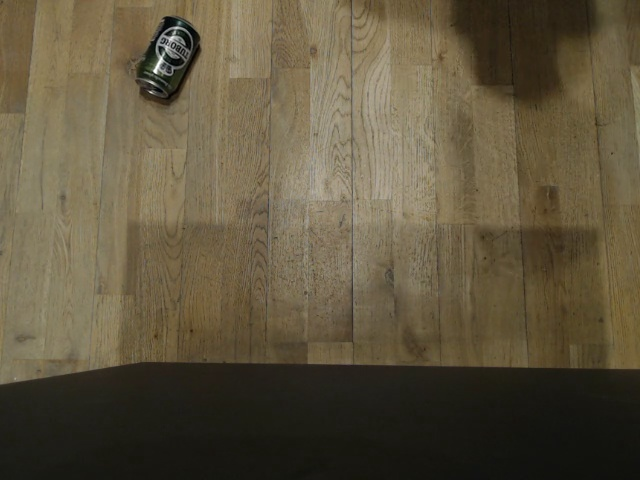beer: (132, 11, 203, 102)
